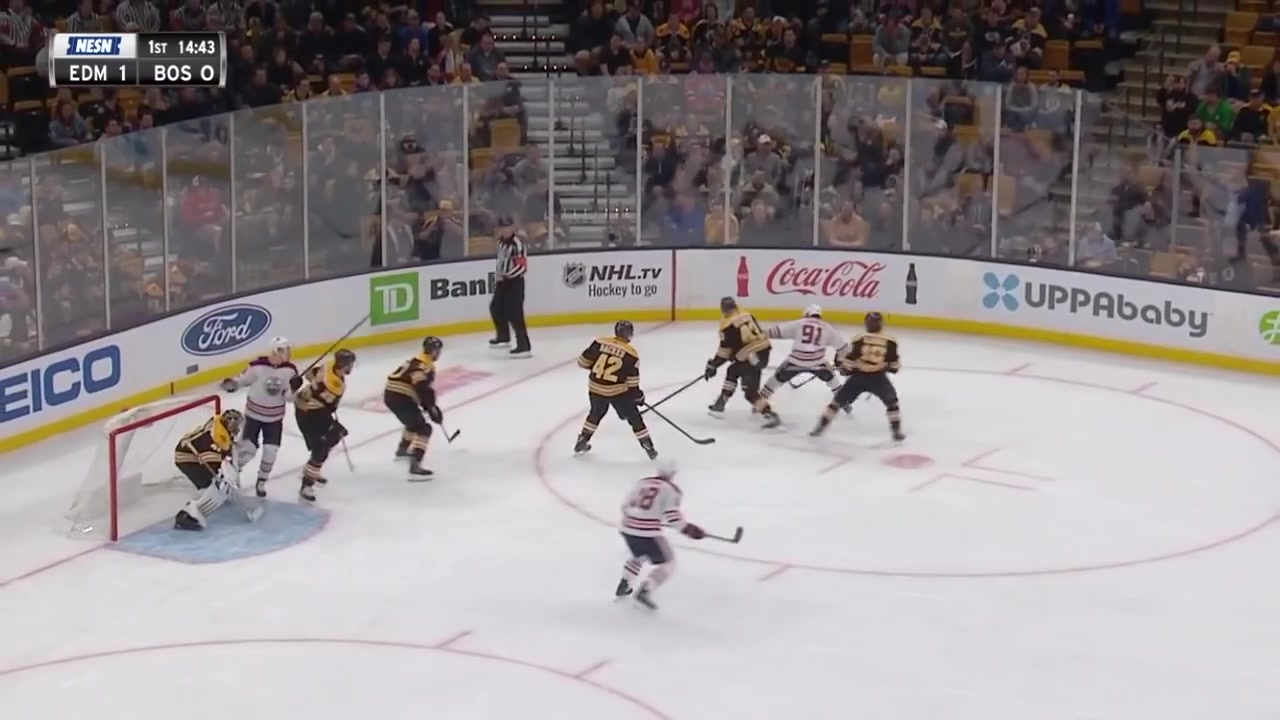Geico: (1, 316, 135, 443)
